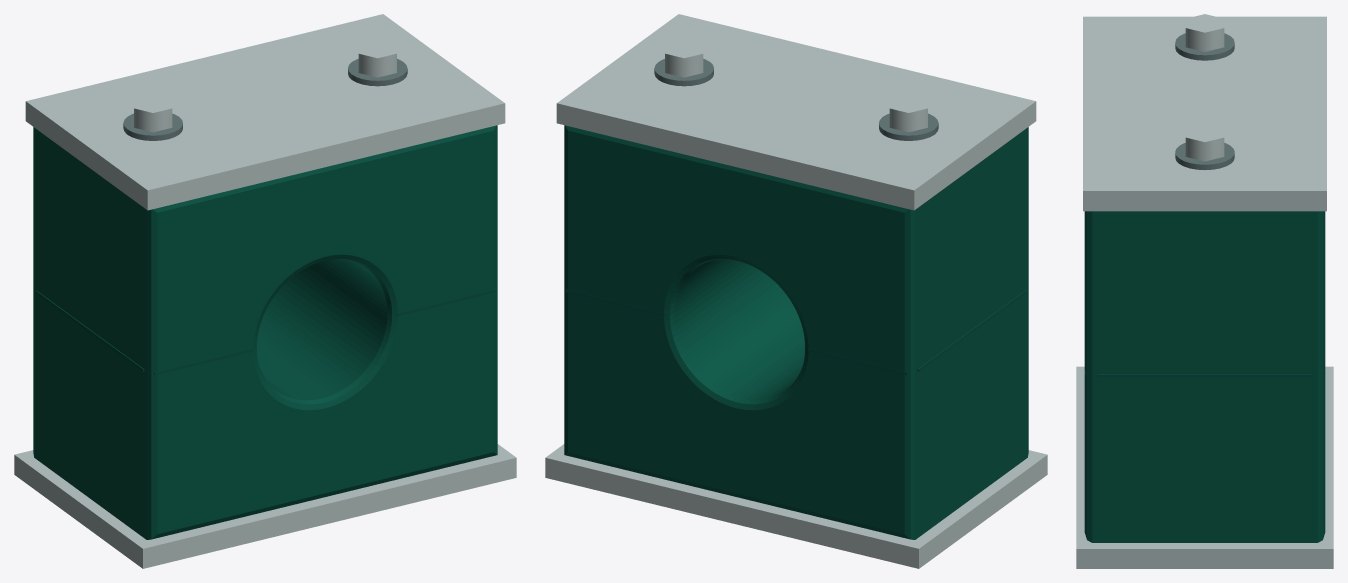
File: clamp-standard.glb
The picture shows the model from 3 angles, left to right: view 1: azimuth 30°, elevation 25°; view 2: azimuth 150°, elevation 25°; view 3: azimuth 270°, elevation 25°; orthographic projection.
Parts seen in each view (by area): view 1: Green split clamp body with pipe bore, Top steel plate, Bottom steel mounting plate, Hex bolt head (×2), Bolt washer (×2); view 2: Green split clamp body with pipe bore, Top steel plate, Bottom steel mounting plate, Hex bolt head (×2), Bolt washer (×2); view 3: Green split clamp body with pipe bore, Top steel plate, Bottom steel mounting plate, Hex bolt head (×2), Bolt washer (×2), Side split line.
Boxes of the visible parts, <box> form: Green split clamp body with pipe bore: <box>33,125,497,539</box>; Top steel plate: <box>25,14,505,210</box>; Bottom steel mounting plate: <box>14,444,516,568</box>; Hex bolt head (×2): <box>134,39,396,132</box>; Bolt washer (×2): <box>123,59,407,140</box>; Green split clamp body with pipe bore: <box>564,125,1028,539</box>; Top steel plate: <box>556,14,1036,210</box>; Bottom steel mounting plate: <box>545,444,1047,568</box>; Hex bolt head (×2): <box>665,39,927,132</box>; Bolt washer (×2): <box>654,59,938,140</box>; Green split clamp body with pipe bore: <box>1084,211,1325,542</box>; Top steel plate: <box>1083,16,1326,211</box>; Bottom steel mounting plate: <box>1076,366,1333,568</box>; Hex bolt head (×2): <box>1185,14,1224,161</box>; Bolt washer (×2): <box>1175,33,1234,169</box>; Side split line: <box>1097,374,1312,377</box>.
Size of the model in its own units: 2.53 by 2.59 by 1.51.
